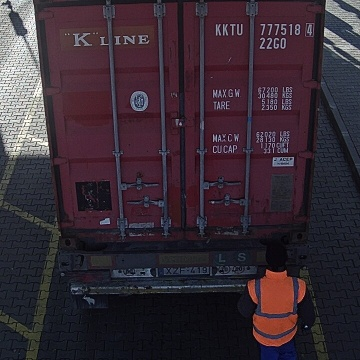serial_id: (214, 23, 313, 36)
